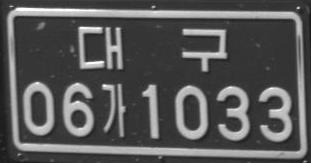0: (174, 84, 208, 141), (23, 80, 54, 136)
1: (135, 83, 168, 139)
3: (258, 86, 293, 143), (216, 84, 250, 140)
6: (62, 82, 94, 137)
가: (101, 83, 127, 137)
대구_D: (78, 25, 228, 71)
